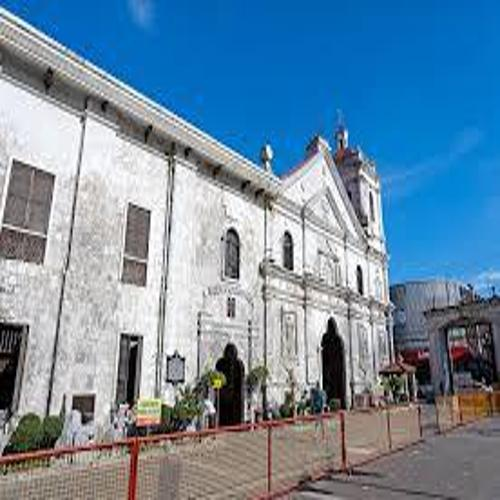Sto. Nino Basilica Church: (254, 98, 407, 420)
